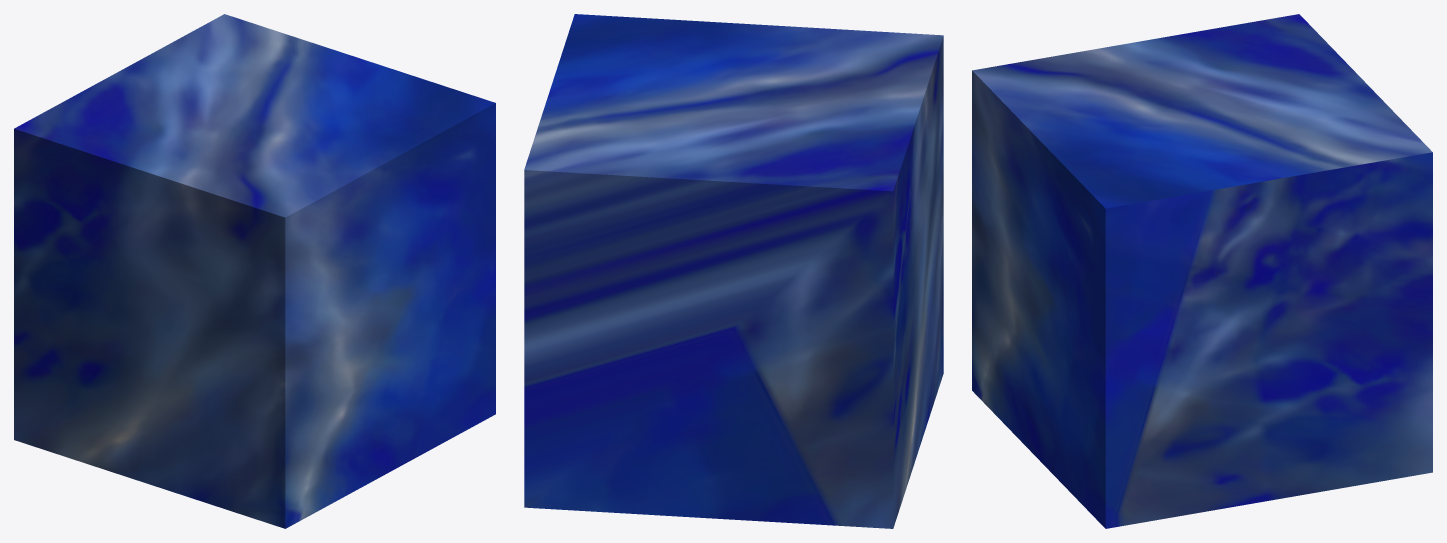
File: BlueBlocks_15.gltf
3 views of the same model, side by side, from view 1: azimuth 30°, elevation 25°; view 2: azimuth 150°, elevation 25°; view 3: azimuth 270°, elevation 25° (orthographic). The views are drawn at different scales.
Parts seen in each view (by area): view 1: BlueBlocks_15; view 2: BlueBlocks_15; view 3: BlueBlocks_15.
Part boxes in pixels (bbox=[...]): BlueBlocks_15: bbox=[14, 14, 495, 528]; BlueBlocks_15: bbox=[524, 14, 943, 528]; BlueBlocks_15: bbox=[972, 14, 1432, 528].
Bounding box in the file's own units: 6.45 × 4.95 × 6.45.
Materials: 1 (1 with a texture image).
